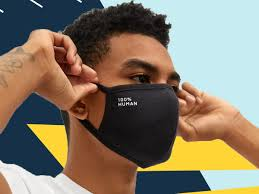FaceMask: (99, 82, 179, 168)
